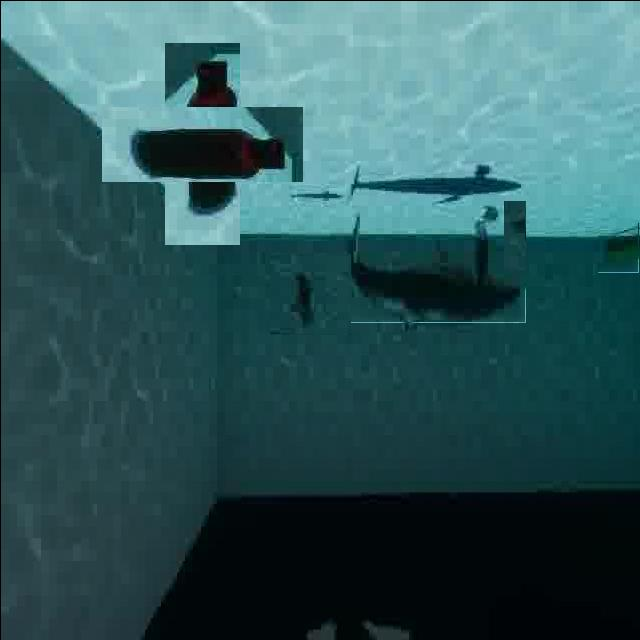Cylinder: (132, 74, 270, 212)
Pipe: (597, 222, 638, 272)
Whale: (329, 200, 525, 322), (270, 252, 350, 334)
